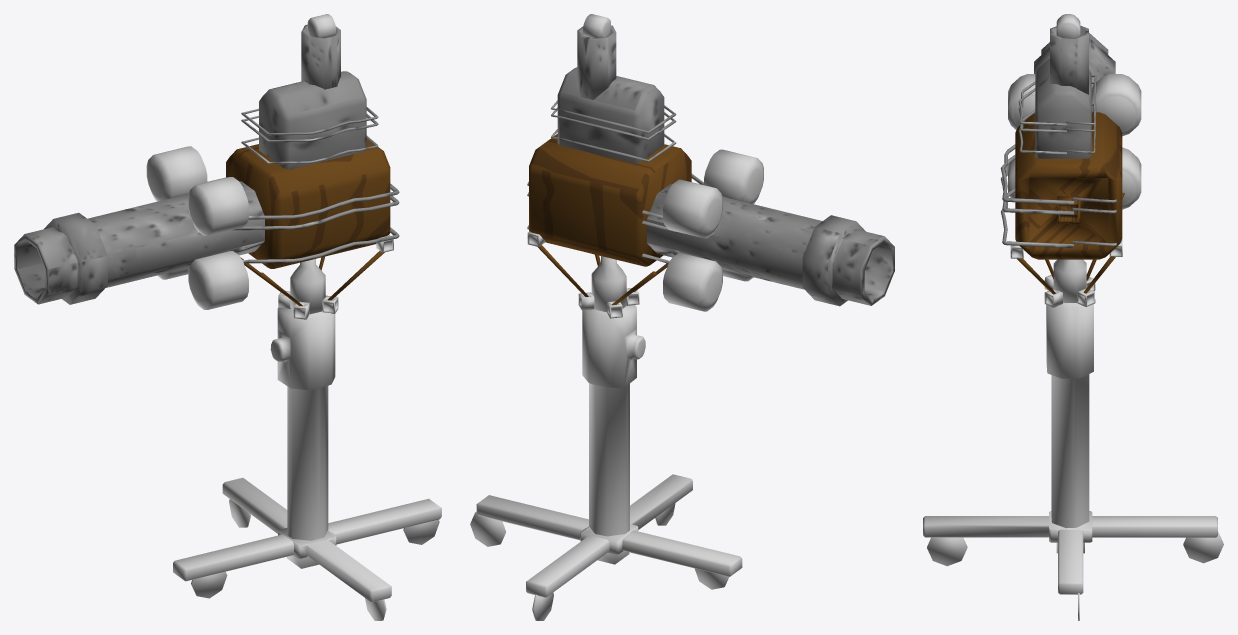
The model's file is TURRETA DE batata.dae.
3 renders of one model, left to right at view 1: azimuth 30°, elevation 25°; view 2: azimuth 150°, elevation 25°; view 3: azimuth 270°, elevation 25°, orthographic.
Visible parts, largest first — view 1: Cubo.002, PE; view 2: Cubo.002, PE; view 3: Cubo.002, PE.
Part boxes in pixels (<box>): Cubo.002: <box>14,14,399,319</box>; PE: <box>173,307,441,620</box>; Cubo.002: <box>527,14,894,318</box>; PE: <box>470,305,742,620</box>; Cubo.002: <box>1000,14,1141,307</box>; PE: <box>923,303,1223,620</box>.
Size of the model in its own units: 5.12 by 3.28 by 6.65.
